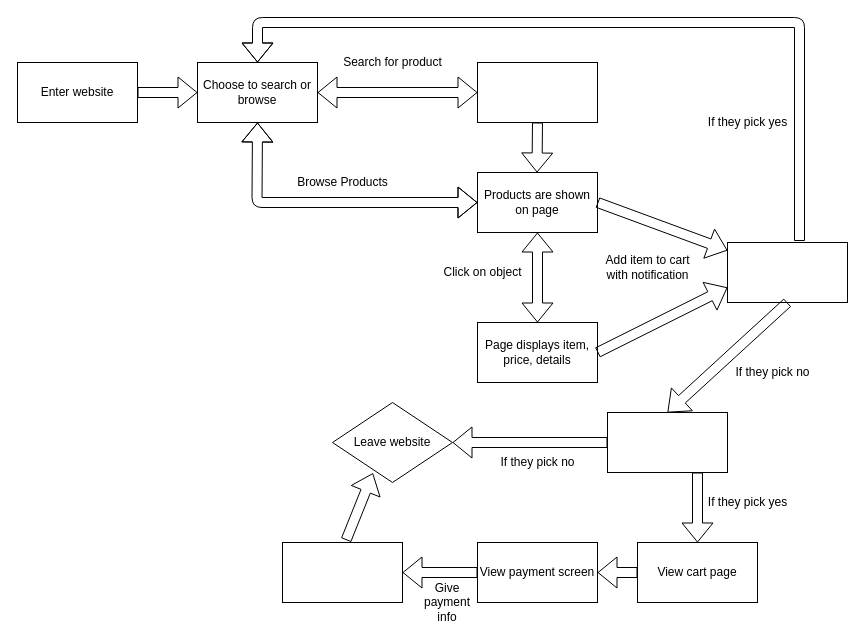
Some shapes in this 865 by 641 pixel diagram are drawn without their labels. Each missing label, with the centre of its shape:
Ask user if they want to checkout or not: (667,442)
Ask user to continue shopping or not: (787,272)
Give input for what they want to search: (537,92)
Payment confirmation, send email to user: (342,572)
